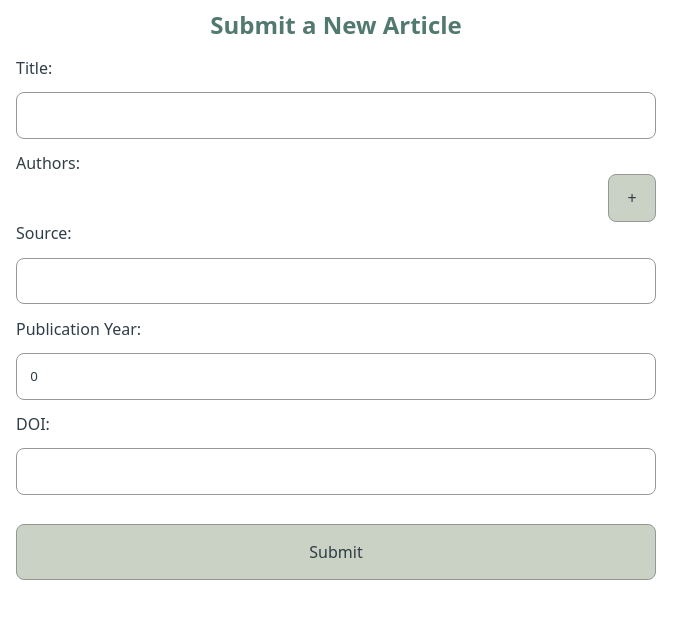
it: My Test Suite › displays a warning message for empty fields
# Submit the form without filling in any fields
Click the button "Submit".
click(336, 552)  # box [16, 524, 656, 580]
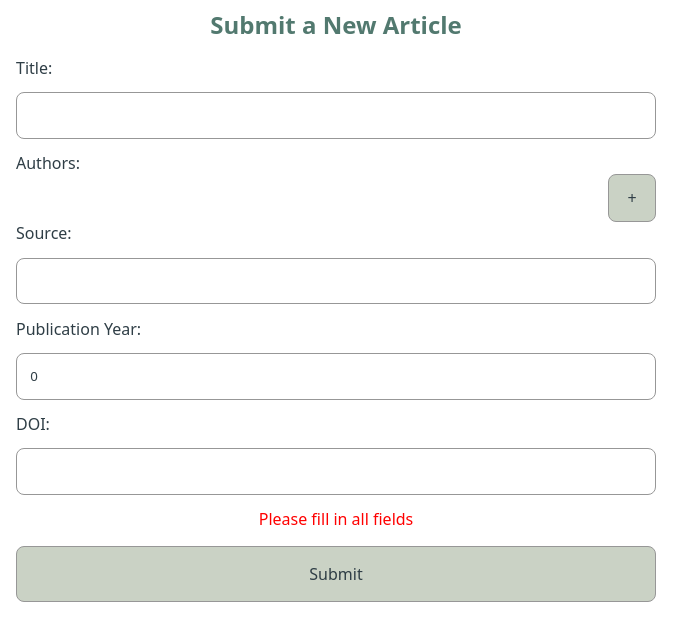
Expected: the text "Please fill in all fields" is shown, [259, 508, 413, 530]
